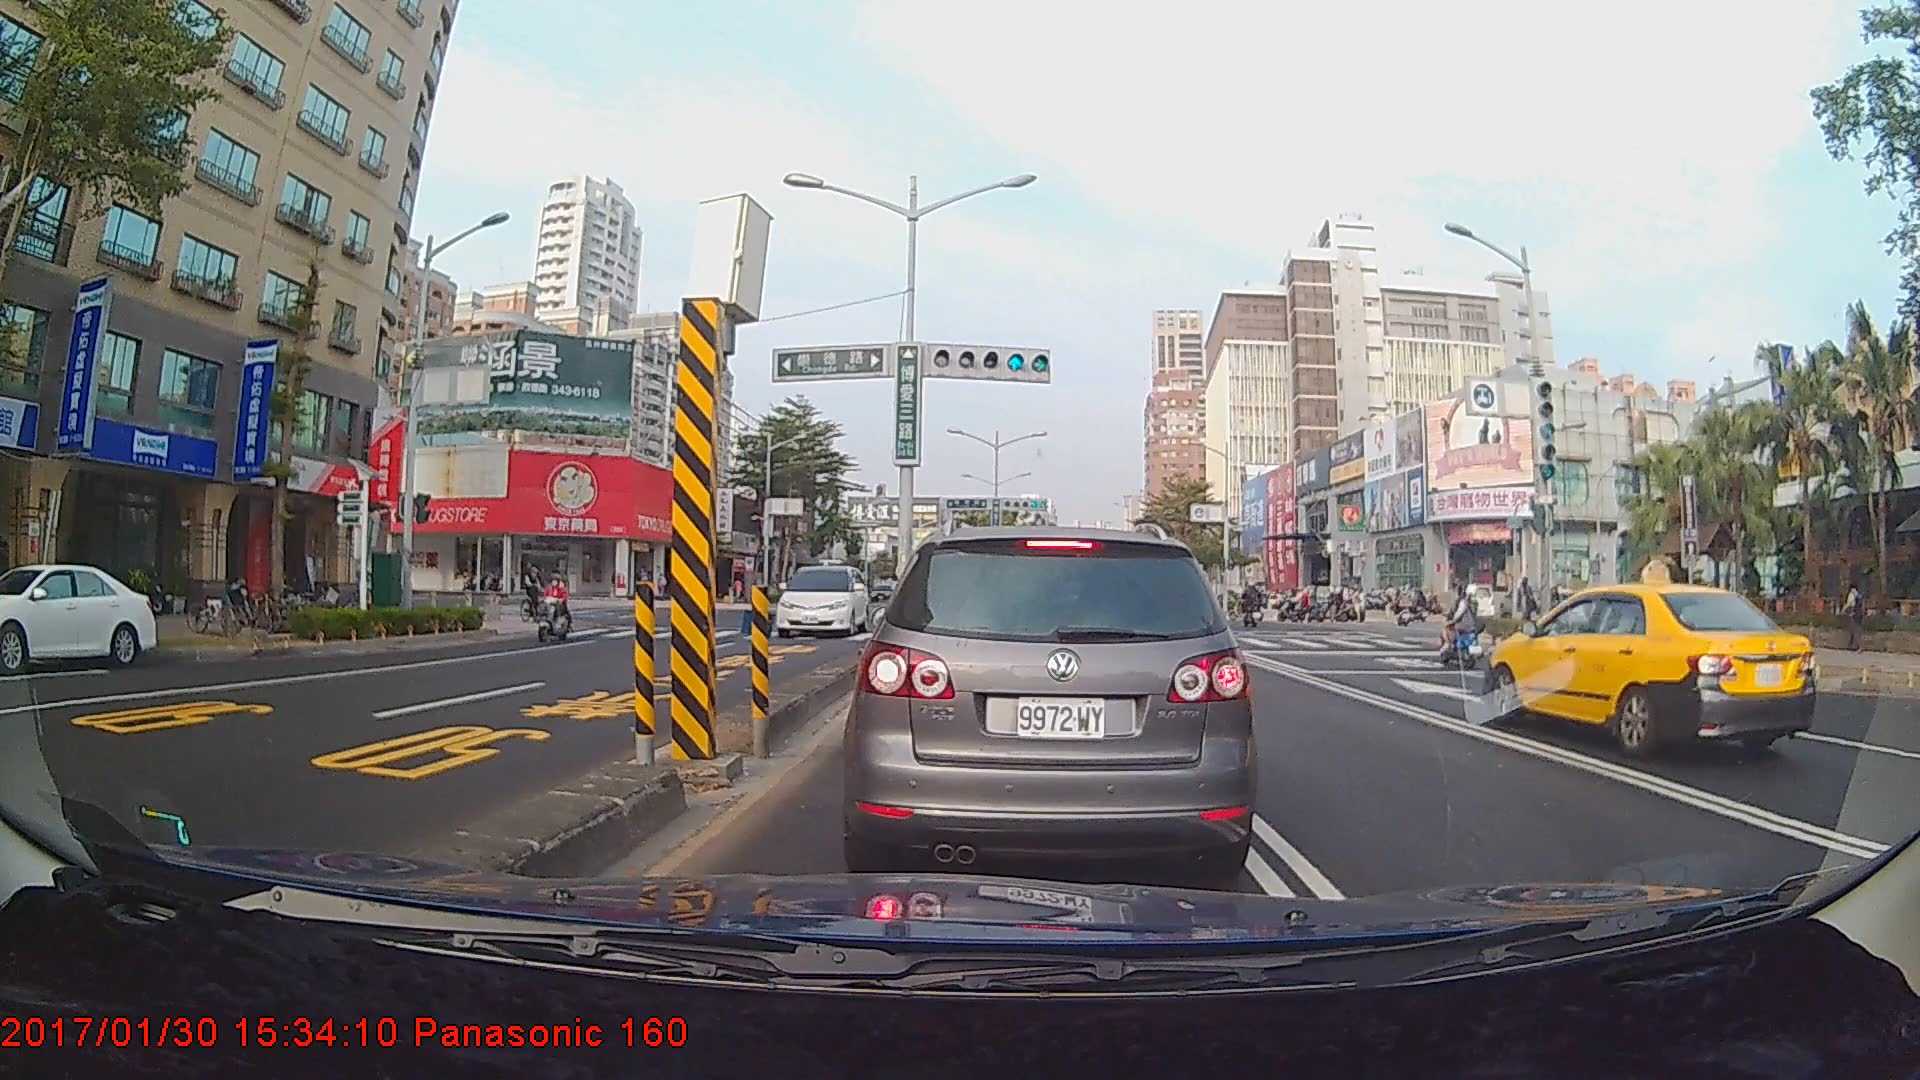pedestrian: (1840, 579, 1867, 652)
rider: (1437, 579, 1491, 672), (539, 572, 585, 646), (518, 559, 561, 629), (1239, 580, 1270, 631)
vehicle: (856, 522, 1250, 878), (1483, 576, 1818, 759), (0, 561, 159, 671), (774, 562, 871, 638)
